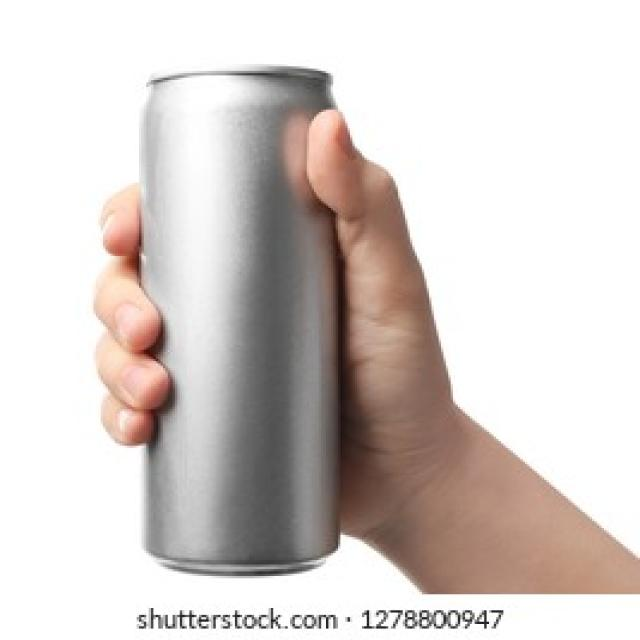soda_can: (123, 46, 366, 598)
